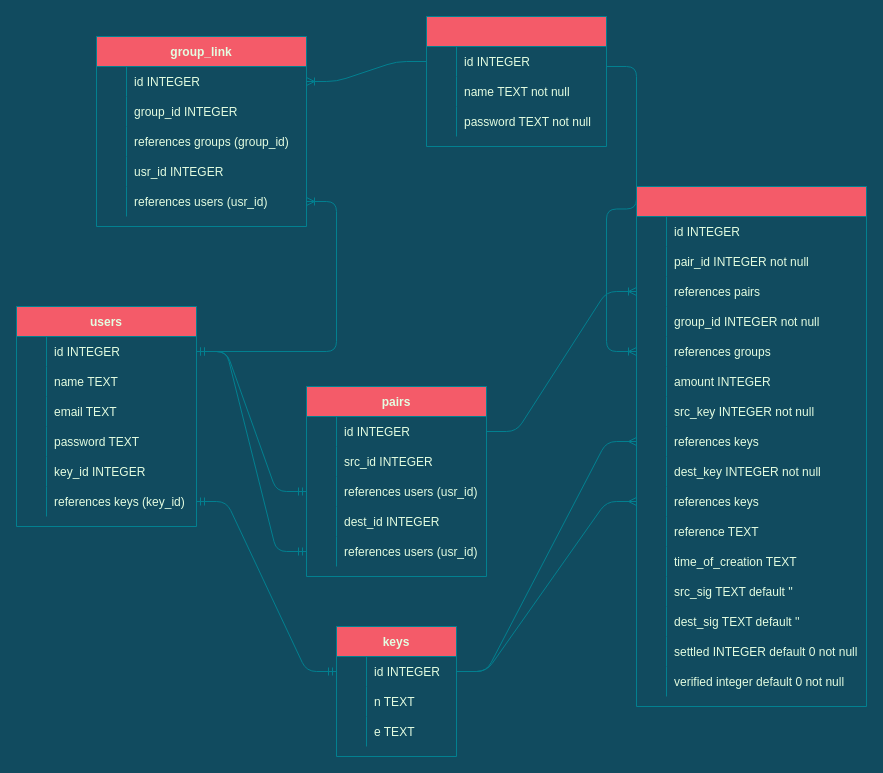
The diagram is 883 pixels wide and 773 high, and some of its shapes have lost their labels. Here are the shapes that lost their labels. From the top down, the box of each, then its label:
(426, 16, 606, 146): groups
(636, 186, 866, 706): transactions
